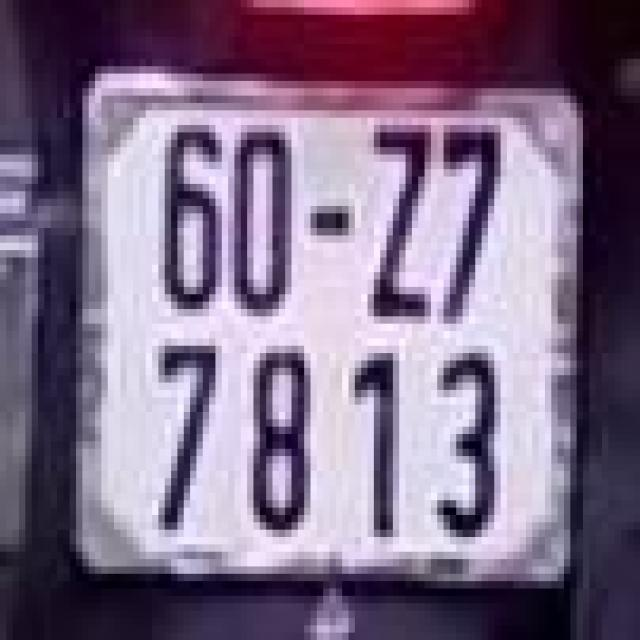0: (225, 118, 307, 316)
1: (345, 338, 415, 544)
3: (437, 342, 513, 541)
6: (146, 114, 228, 313)
7: (136, 327, 225, 548), (434, 118, 504, 324)
8: (244, 342, 320, 541)
Z: (364, 110, 434, 331)
